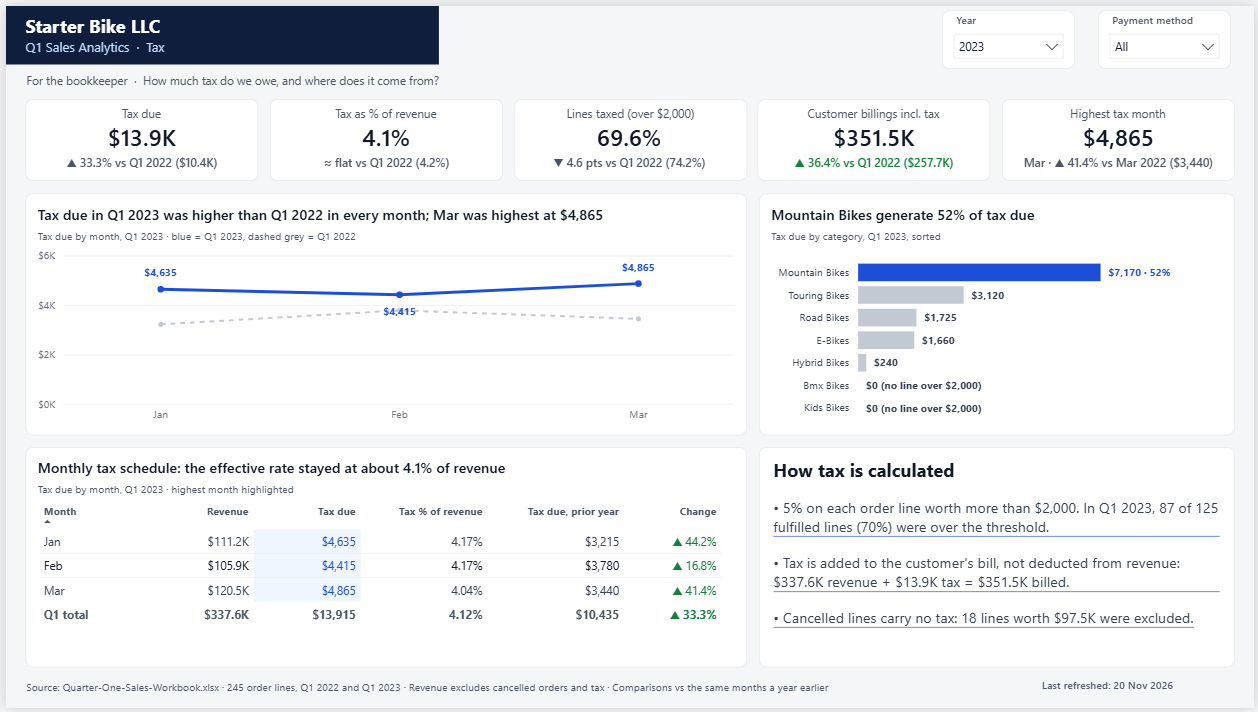

What the dashboard file says about the page in this screenshot:
{"tool":"powerbi","page":{"name":"Tax Obligation","canvas":[1280,720],"ordinal":3},"visuals":[{"type":"slicer","fields":{"Values":["Date.Year"]},"box":[954.4,9.3,110.2,69],"z":0},{"type":"cardVisual","fields":{"Data":["Measure.Taxable Sale","Measure.Taxable Sale Percent","Measure.Total Tax Due","Measure.Net Revenue"]},"box":[19.9,74.3,1241.1,81],"z":1000},{"type":"clusteredBarChart","title":"Tax Due Per Month","fields":{"Category":["Date.Month"],"Y":["Sum(Sales.Tax Due)"]},"box":[19.9,164.6,596,280.1],"z":2000},{"type":"lineClusteredColumnComboChart","title":"Tax Due as Proportion of Revenue Generated Per Month","fields":{"Category":["Date.Date.Variation.Date Hierarchy.Year","Date.Date.Variation.Date Hierarchy.Month"],"Y":["Sum(Sales.Revenue)"],"Y2":["Measure.Tax Proportion"]},"box":[627.8,164.6,633.1,541.6],"z":3000},{"type":"slicer","fields":{"Values":["Sales.Payment Method"]},"box":[1092.4,9.3,168.6,69],"z":4000},{"type":"treemap","title":"Tax Due by Product Category ","fields":{"Details":["Sales.Tax Due"],"Group":["Sales.Product Category "],"Values":["Sum(Sales.Tax Due)"]},"box":[19.9,450,596,256.2],"z":5000},{"type":"textbox","box":[19.9,0,343.8,63.7],"z":6001}]}

Visuals, with their boxes in screenshot pixels (x1, y1, x2, y2), scaled from the page's 1280x720 canvas onto the 1258x712 screenshot:
slicer - Date.Year: {"left": 938, "top": 9, "right": 1046, "bottom": 77}
cardVisual - Measure.Taxable Sale x Measure.Taxable Sale Percent: {"left": 20, "top": 73, "right": 1239, "bottom": 154}
"Tax Due Per Month" clusteredBarChart: {"left": 20, "top": 163, "right": 605, "bottom": 440}
"Tax Due as Proportion of Revenue Generated Per Month" lineClusteredColumnComboChart: {"left": 617, "top": 163, "right": 1239, "bottom": 698}
slicer - Sales.Payment Method: {"left": 1074, "top": 9, "right": 1239, "bottom": 77}
"Tax Due by Product Category " treemap: {"left": 20, "top": 445, "right": 605, "bottom": 698}
textbox: {"left": 20, "top": 0, "right": 357, "bottom": 63}
